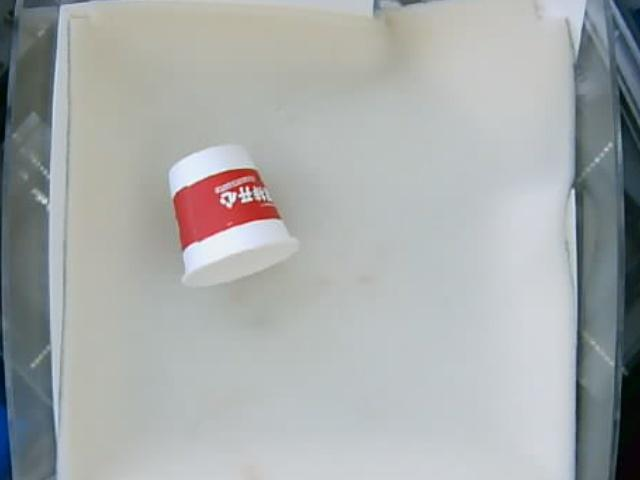Cup: (171, 142, 300, 291)
